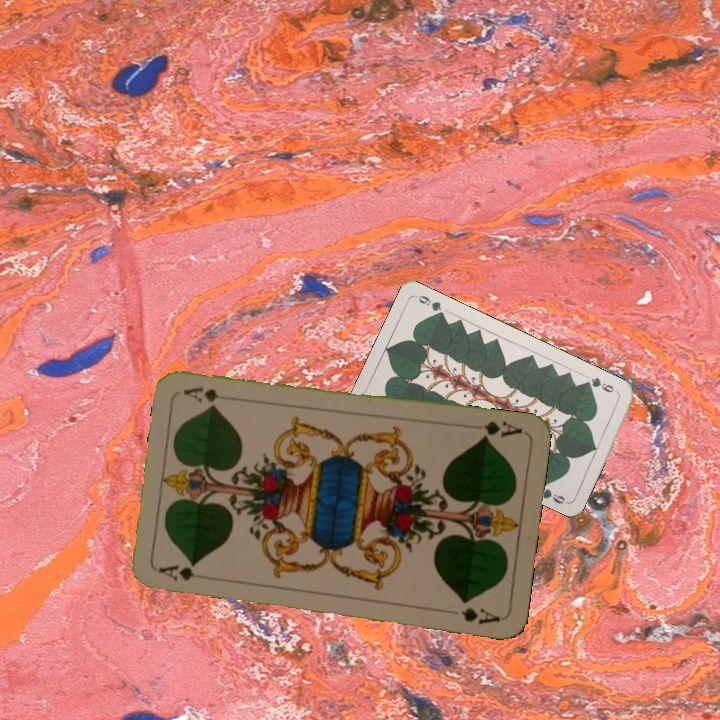G9: (581, 373, 621, 396)
GA: (155, 561, 214, 584), (478, 417, 525, 442)
